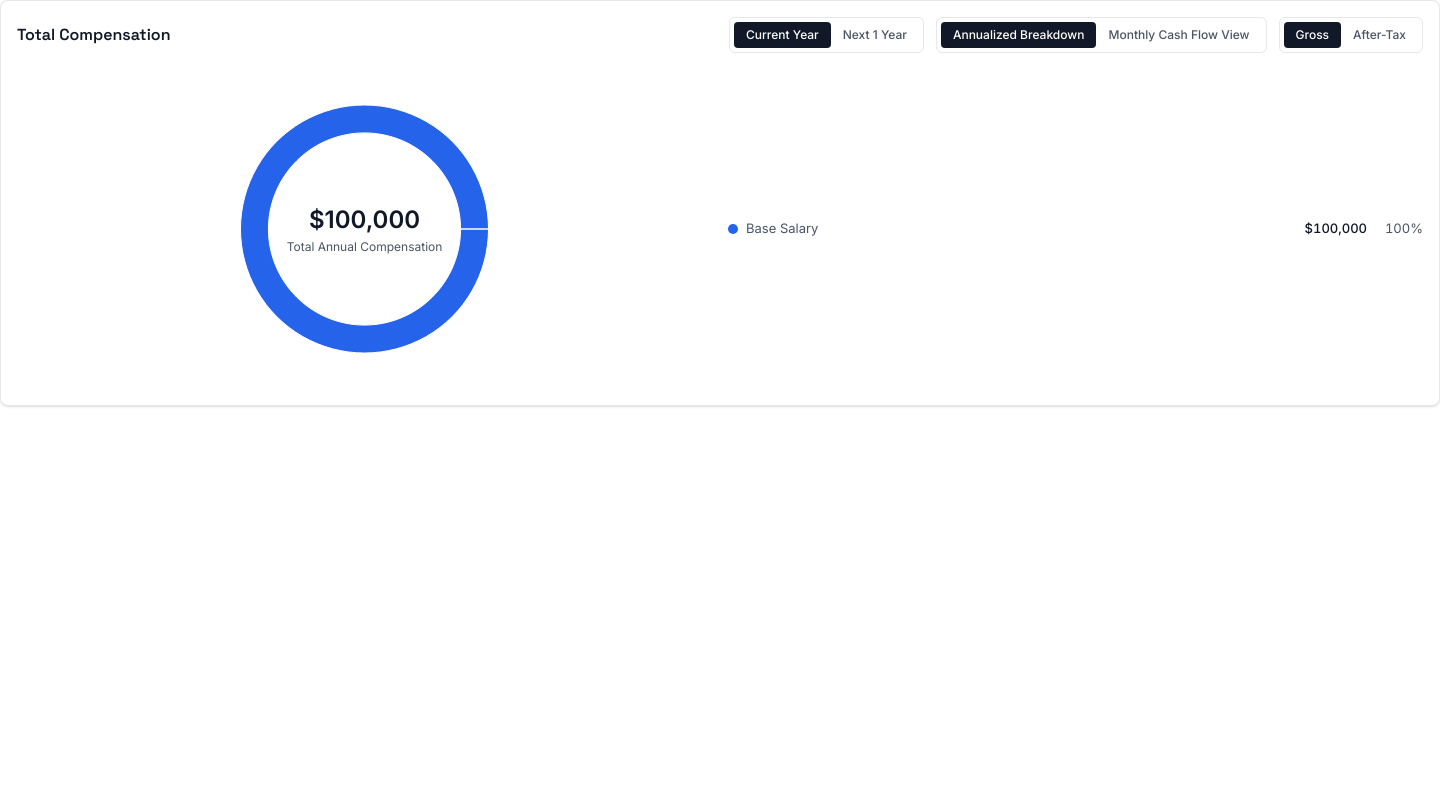
Test: CompHeroWidget stale tax year notice › warns once the tax year has passed, only where the after-tax figure is shown
Click the button "After-Tax".
click(1380, 35)  # box [1341,22,1418,48]
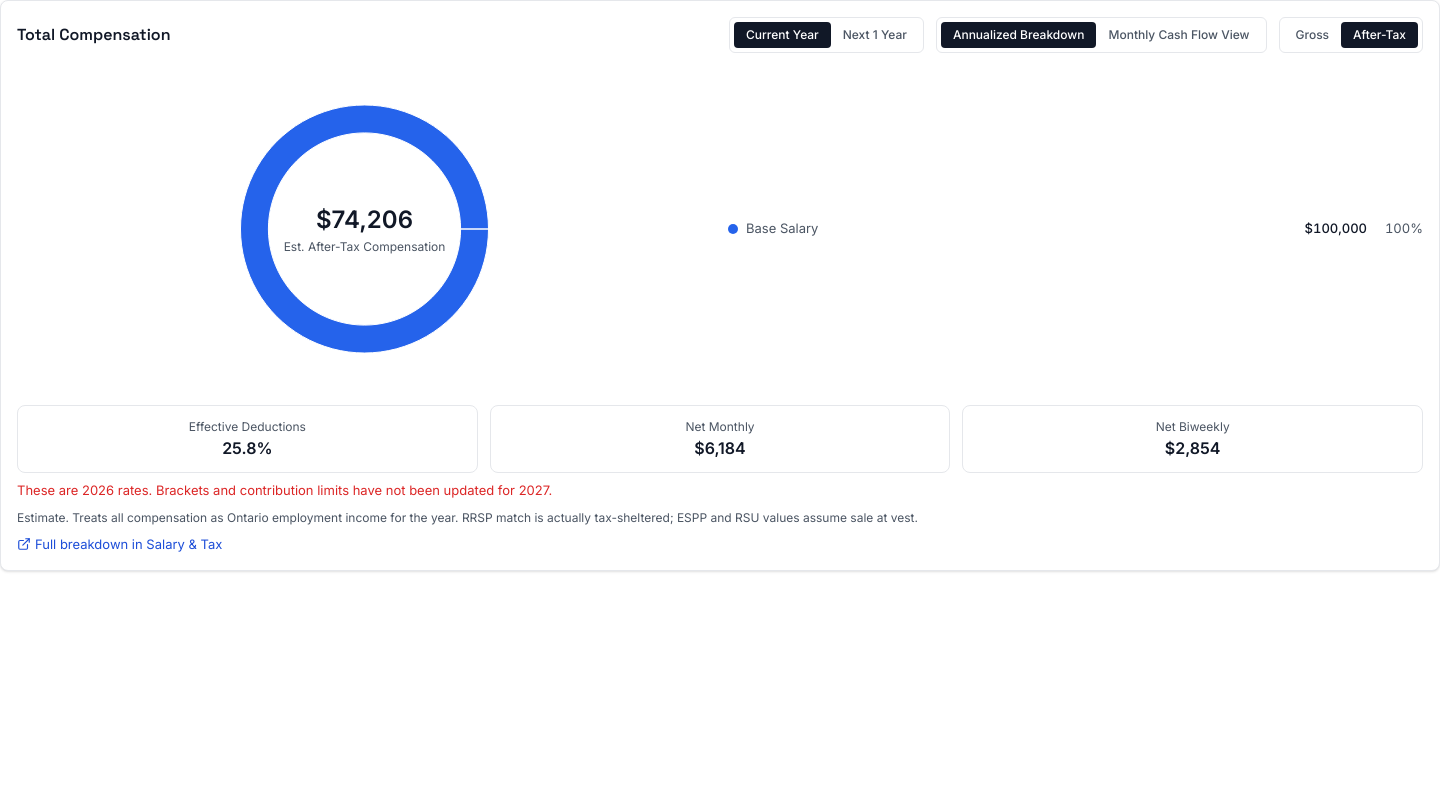
Now the message shows "These are 2026 rates. Brackets and contribution limits have not been updated for 2027.", box [17,482,552,498]
